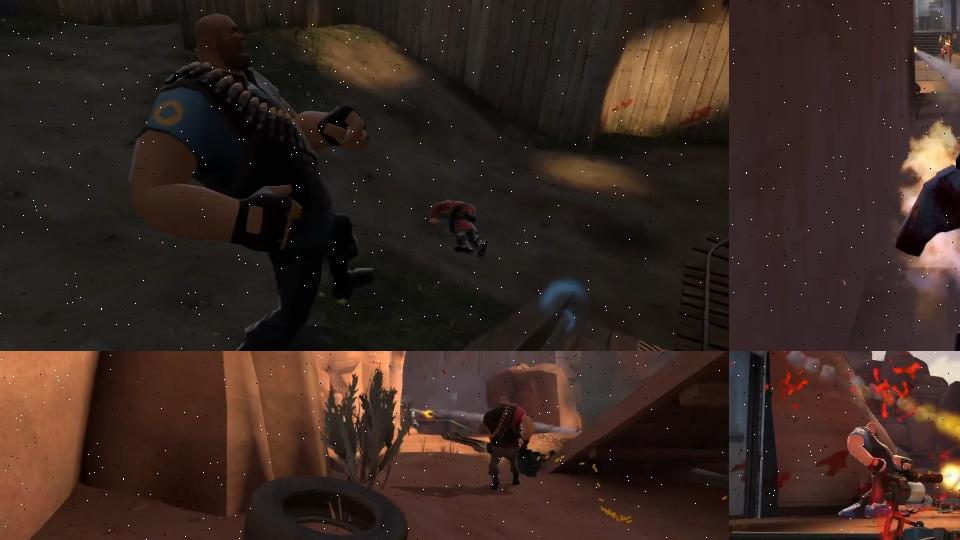Enemy: (130, 12, 377, 351), (846, 421, 944, 519), (475, 394, 546, 503), (431, 198, 489, 258), (939, 32, 952, 63)
